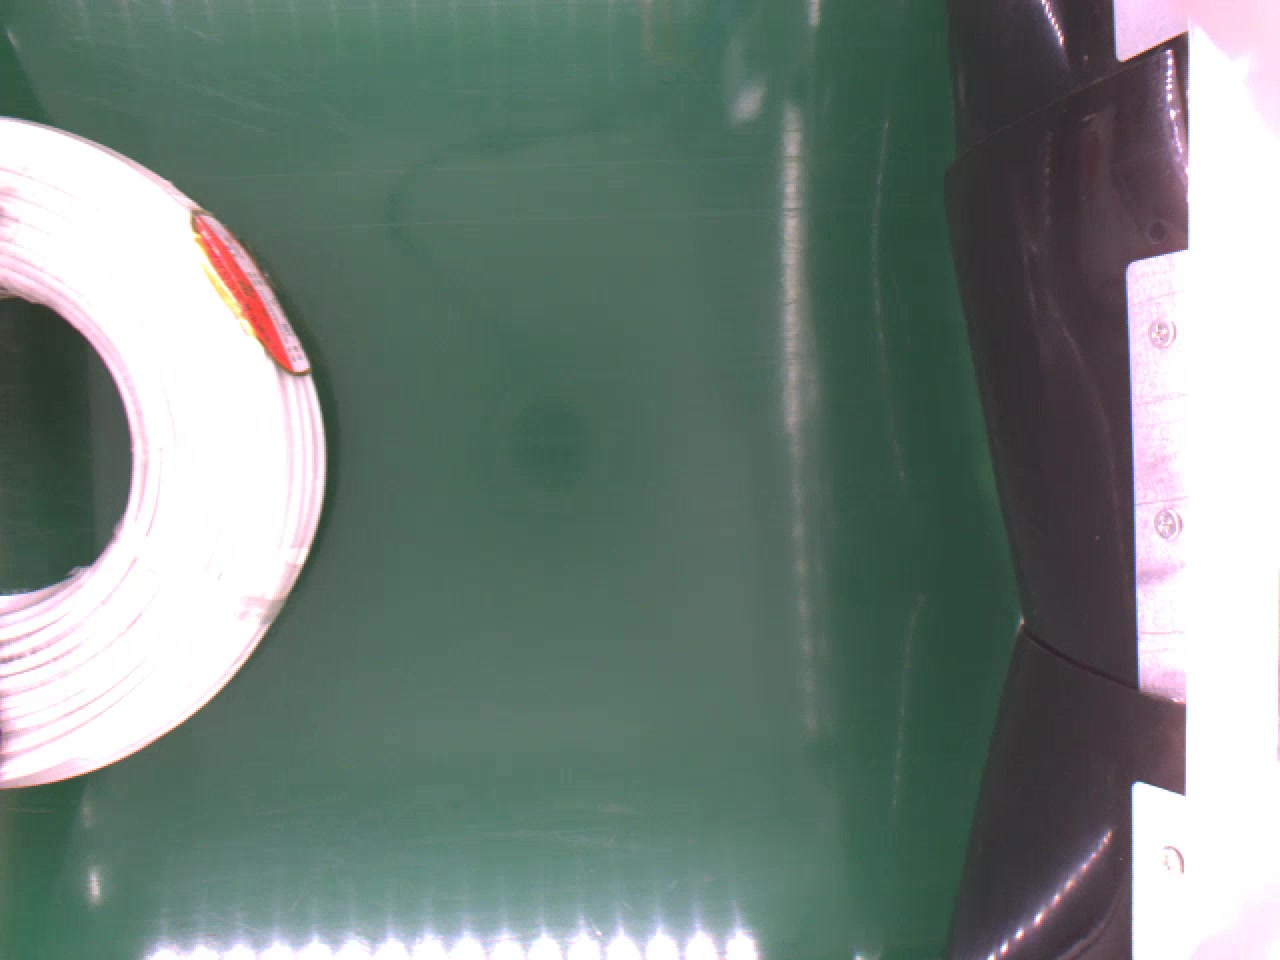white: (0, 112, 333, 792)
